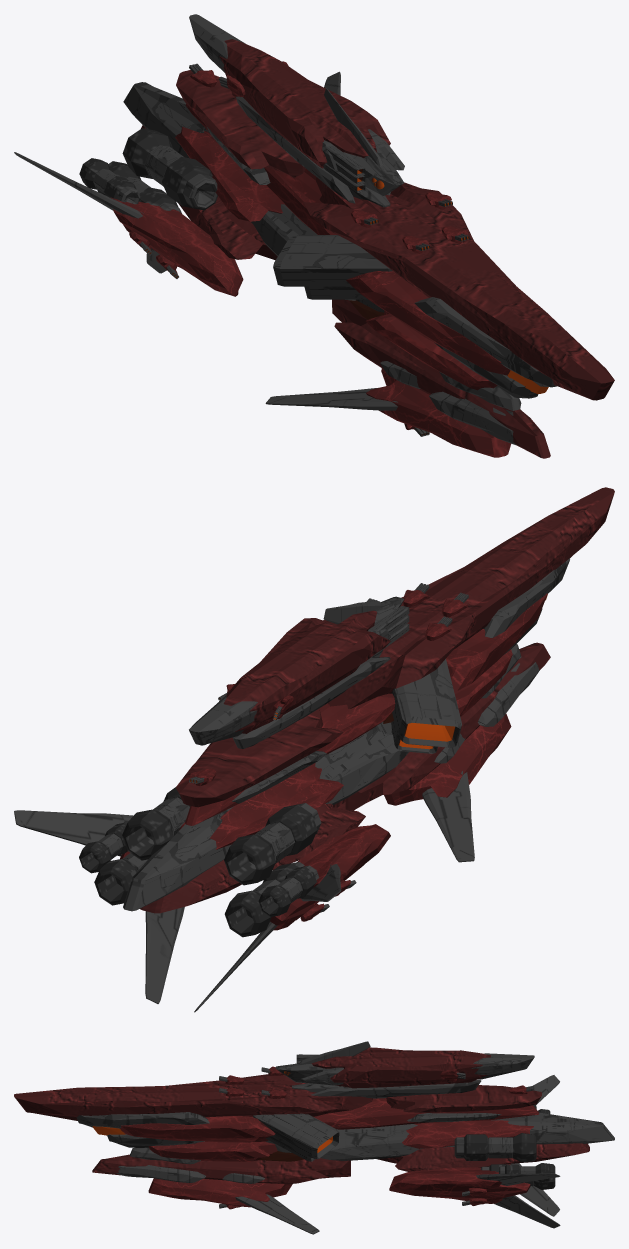
The model's file is arx.gltf.
3 renders of one model, top to bottom at view 1: azimuth 30°, elevation 25°; view 2: azimuth 150°, elevation 25°; view 3: azimuth 270°, elevation 25°, orthographic. The views are drawn at different scales.
Parts seen in each view (by area): view 1: base_multimat; view 2: base_multimat; view 3: base_multimat.
Part boxes in pixels (x1,y1,x2,y2): base_multimat: (14,14,614,458); base_multimat: (14,487,614,1012); base_multimat: (14,1041,614,1234).
Size of the model in its own units: 3.85 by 3.27 by 9.83.
4 materials, 4 textured.
